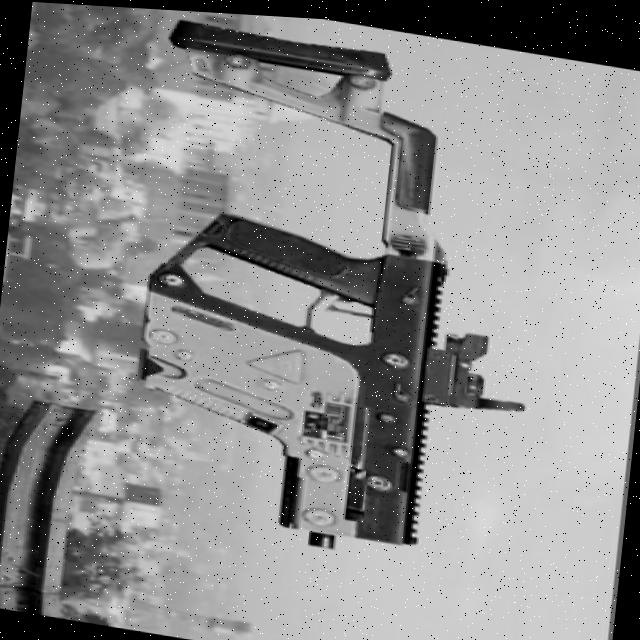firearm: (122, 11, 561, 574)
